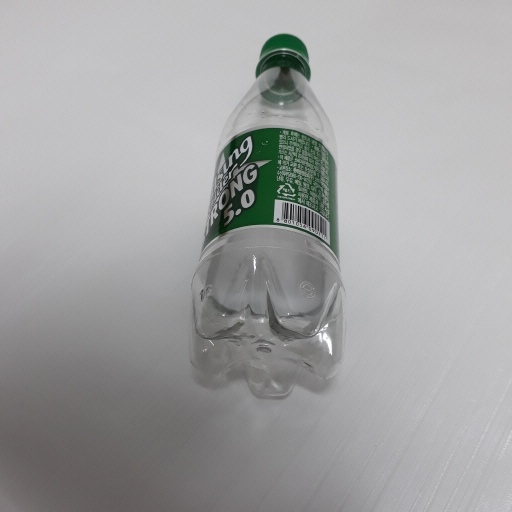Plastic_0: (186, 32, 344, 401)
